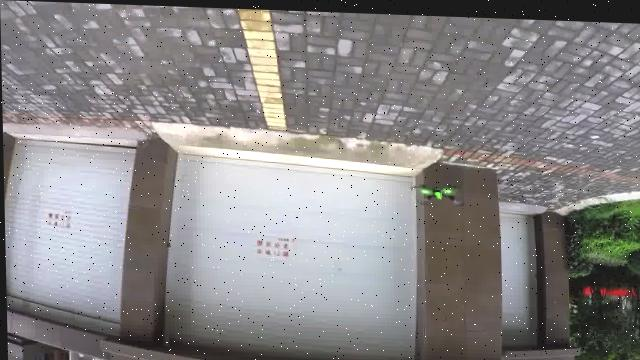drone: (399, 179, 475, 212)
